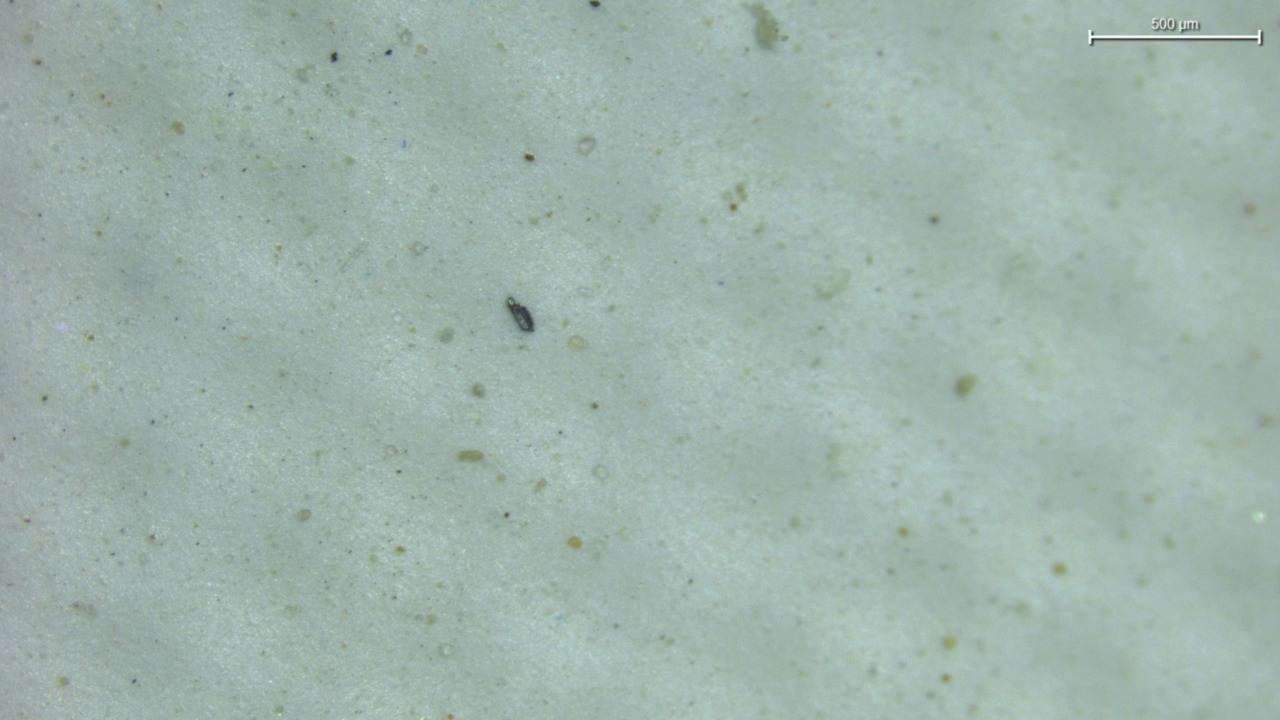microplastic_fragment: (507, 297, 534, 331)
